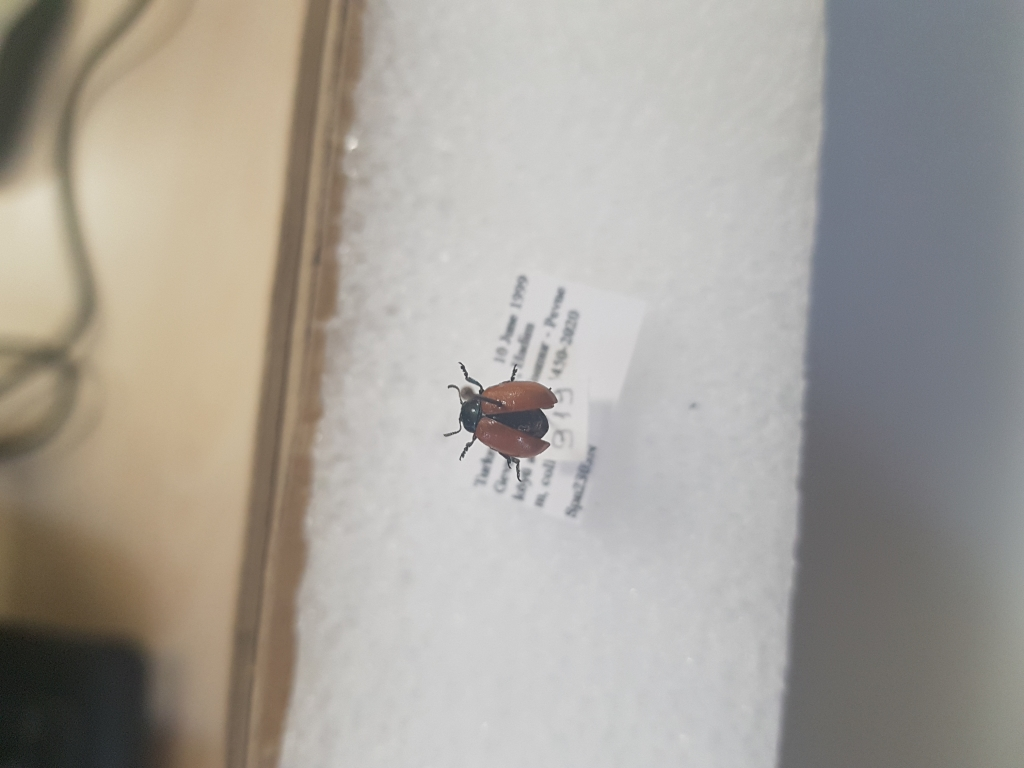Chrysomela_populi: (441, 359, 562, 482)
